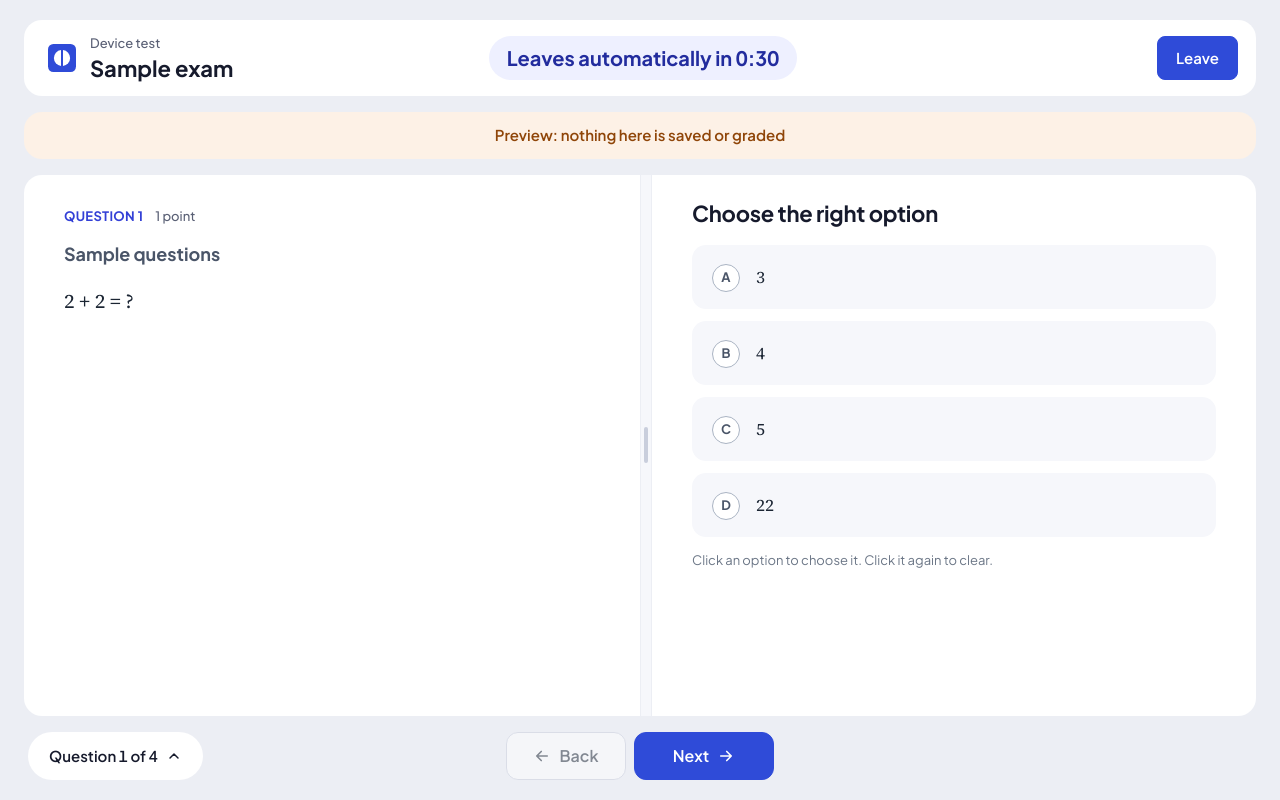
Scenario: device test page › Leave posts deviceTestLeave and goes to the login screen
This screenshot has width=1280, height=800.
Click the button "Leave" at [1198, 58], box left=1157, top=36, right=1238, bottom=80
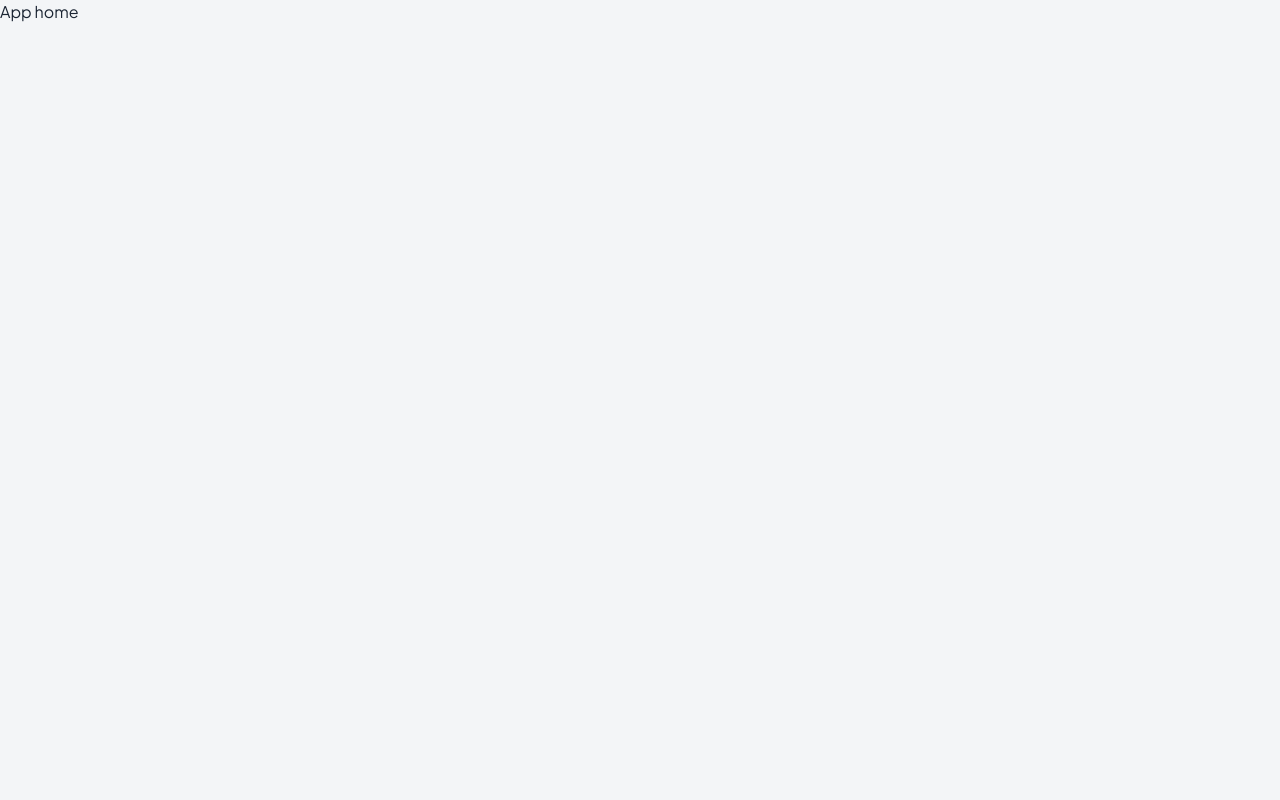
Result: the text "App home" is shown at left=0, top=1, right=78, bottom=22
